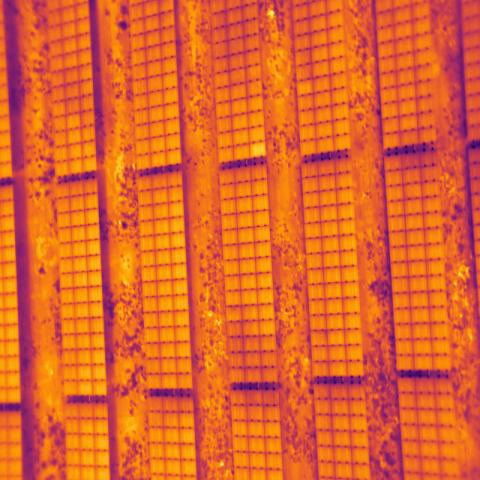fault: (250, 143, 266, 160)
